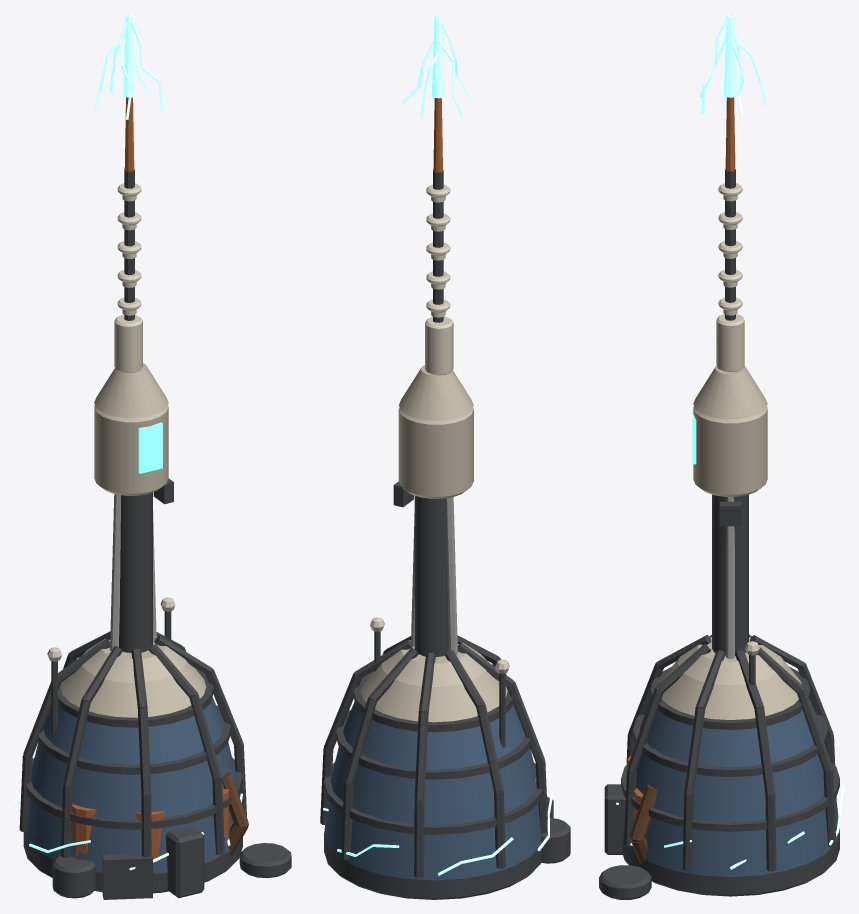
File: lightning-collector.glb
3 views of the same model, side by side, from view 1: azimuth 30°, elevation 25°; view 2: azimuth 150°, elevation 25°; view 3: azimuth 270°, elevation 25° (orthographic).
Visible parts, largest first — view 1: body, anim_lit_strike; view 2: body, anim_lit_strike; view 3: body, anim_lit_strike.
Part boxes in pixels (bbox=[...]): body: bbox=[19, 14, 291, 899]; anim_lit_strike: bbox=[14, 14, 242, 870]; body: bbox=[320, 15, 570, 899]; anim_lit_strike: bbox=[323, 14, 553, 875]; body: bbox=[599, 15, 839, 899]; anim_lit_strike: bbox=[616, 14, 844, 869].
Bounding box in the file's own units: 2.18 × 8.41 × 2.24.
